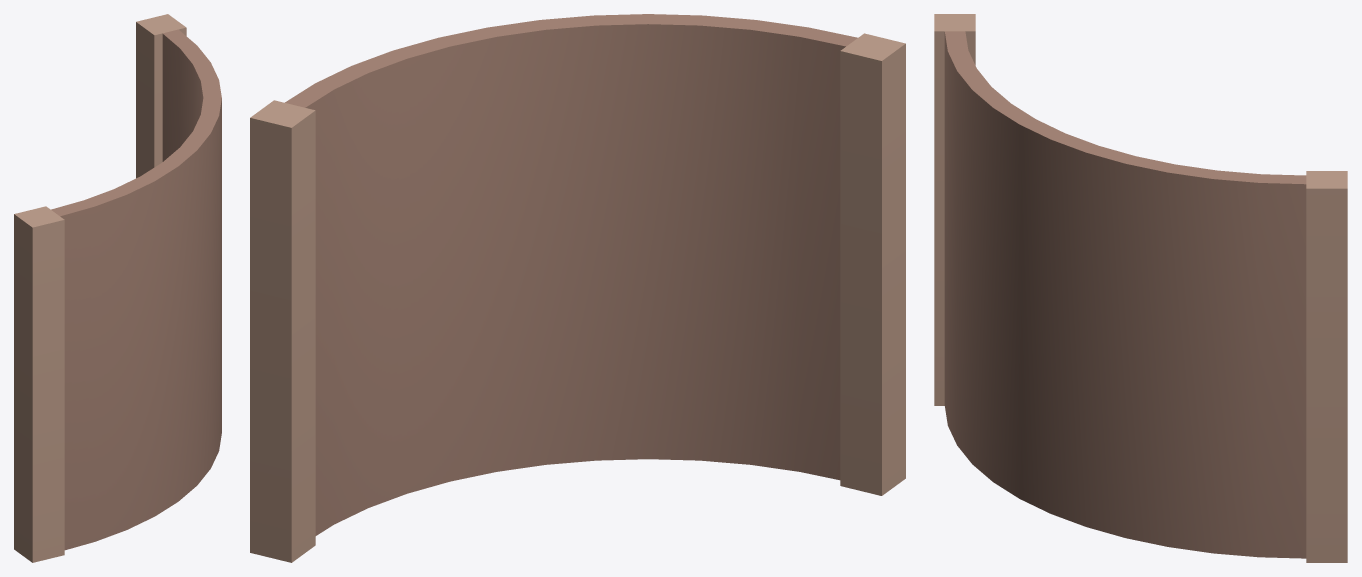
The model's file is wall-wood-curved.glb.
3 views of the same model, side by side, from view 1: azimuth 30°, elevation 25°; view 2: azimuth 150°, elevation 25°; view 3: azimuth 270°, elevation 25° (orthographic). The views are drawn at different scales.
Visible parts, largest first — view 1: wall-wood-curved; view 2: wall-wood-curved; view 3: wall-wood-curved.
Boxes of the visible parts, <box> form: wall-wood-curved: <box>14,14,221,562</box>; wall-wood-curved: <box>250,14,905,562</box>; wall-wood-curved: <box>934,14,1347,562</box>.
Size of the model in its own units: 1 by 1 by 1.
